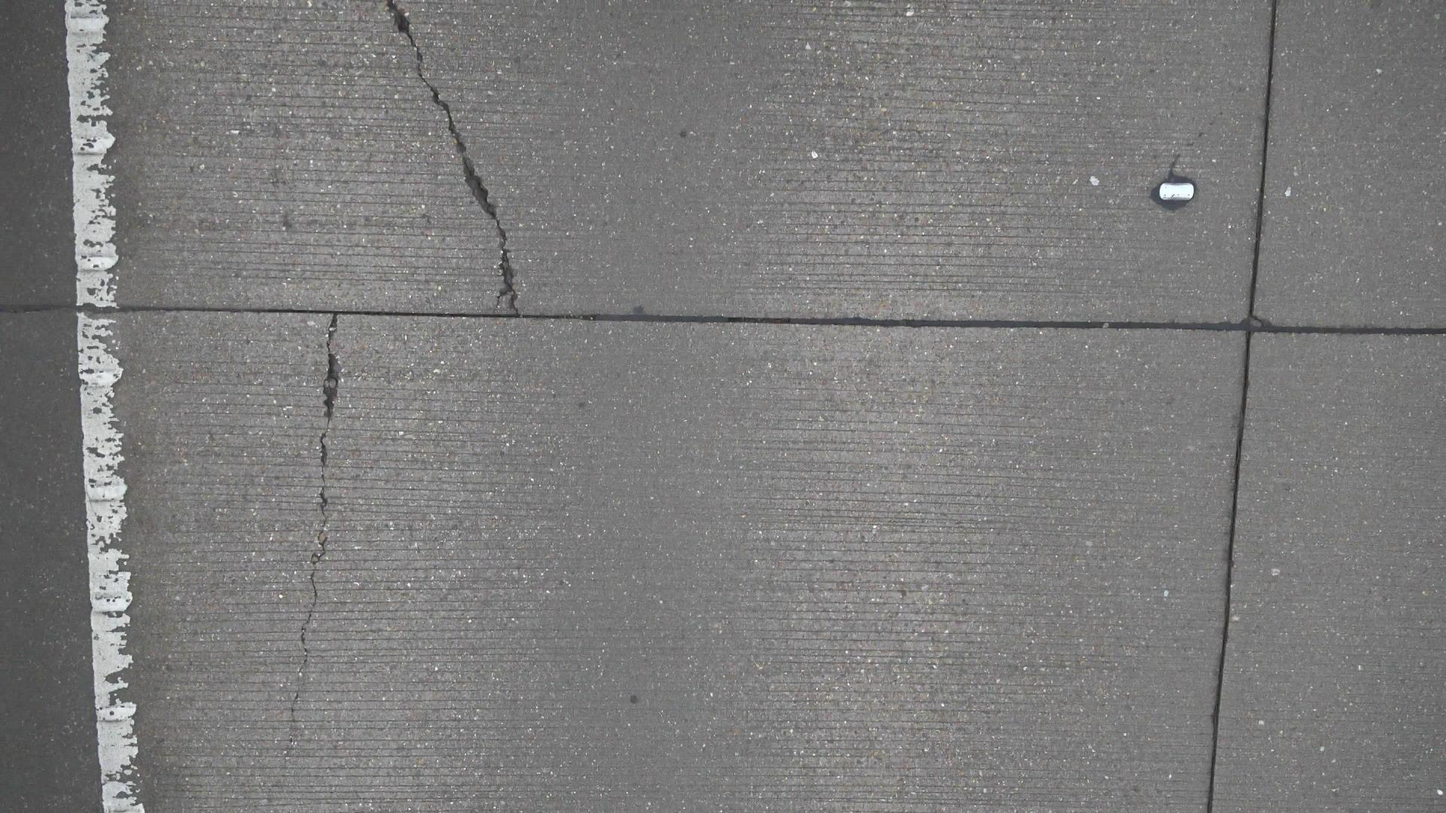GRIETA: (0, 304, 1445, 335), (385, 0, 520, 315), (1206, 336, 1252, 812), (298, 314, 338, 687), (1249, 0, 1276, 315)
